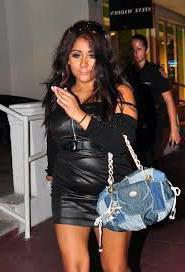Drunk: (68, 44, 97, 80)
